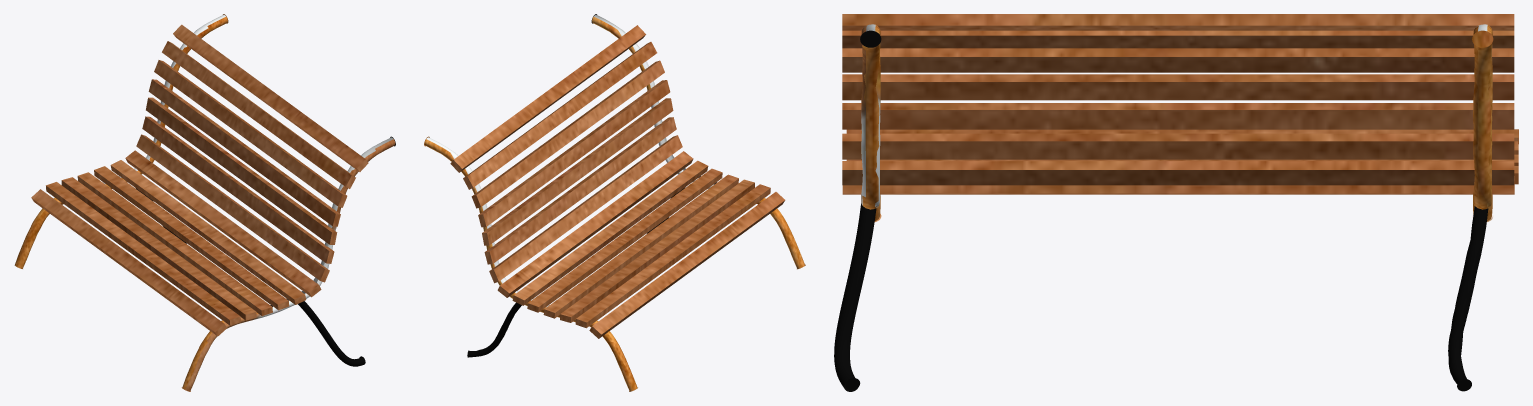
Rendered from Chair.fbx.
The picture shows the model from 3 angles, left to right: view 1: azimuth 30°, elevation 25°; view 2: azimuth 150°, elevation 25°; view 3: azimuth 270°, elevation 25°; orthographic projection. The views are drawn at different scales.
Visible parts, largest first — view 1: BezierCurve.001; view 2: BezierCurve.001; view 3: BezierCurve.001.
Part boxes in pixels (x1=…): BezierCurve.001: x1=14, y1=14, x2=395, y2=391; BezierCurve.001: x1=424, y1=14, x2=805, y2=391; BezierCurve.001: x1=834, y1=14, x2=1518, y2=391.
Size of the model in its own units: 54.47 by 53.11 by 83.88.
